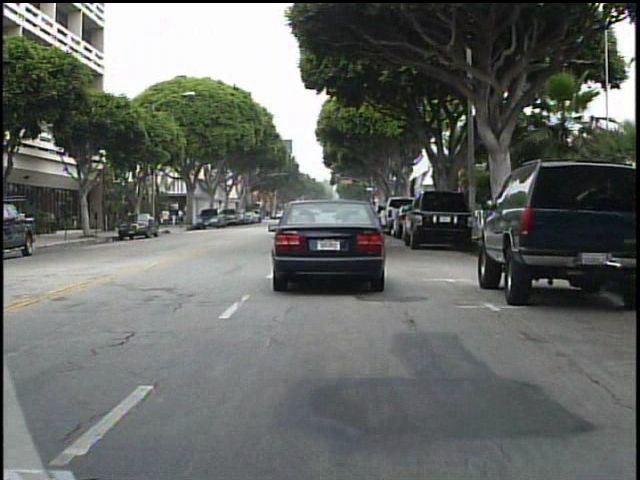person: (159, 205, 173, 231), (176, 203, 189, 229)
